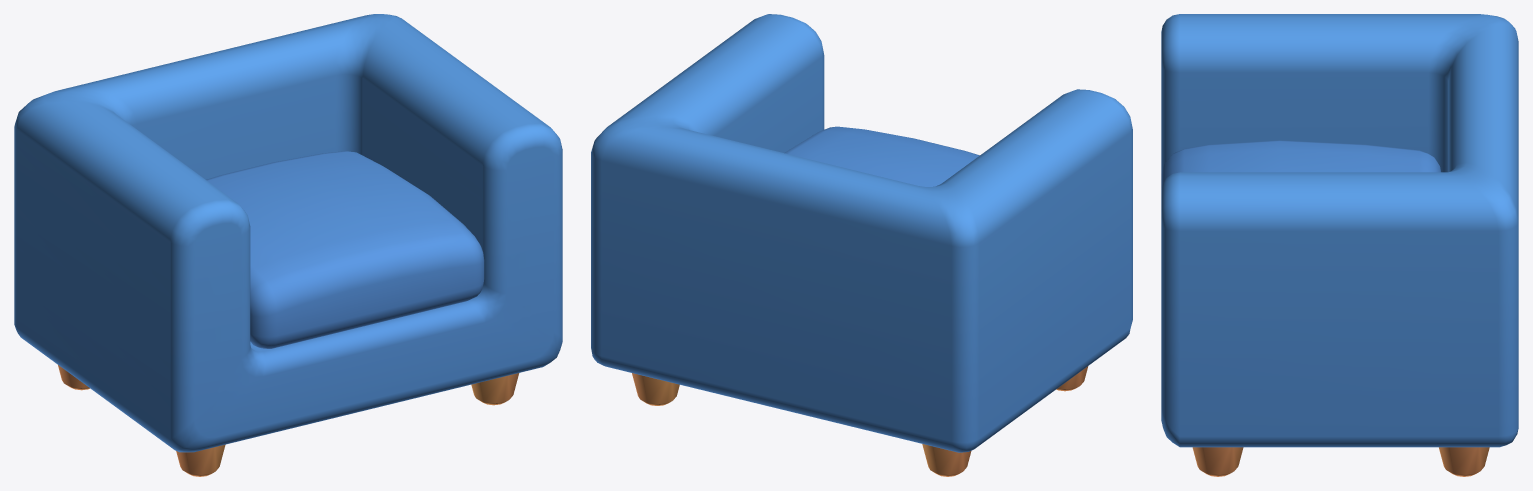
Rendered from Armchair_02.fbx.
The picture shows the model from 3 angles, left to right: view 1: azimuth 30°, elevation 25°; view 2: azimuth 150°, elevation 25°; view 3: azimuth 270°, elevation 25°; orthographic projection. The views are drawn at different scales.
Parts seen in each view (by area): view 1: Armchair_02; view 2: Armchair_02; view 3: Armchair_02.
Boxes of the visible parts, bbox=[...] form: Armchair_02: bbox=[14, 14, 562, 476]; Armchair_02: bbox=[591, 14, 1132, 476]; Armchair_02: bbox=[1161, 14, 1518, 476].
Bounding box in the file's own units: 1 × 0.7 × 0.765.
